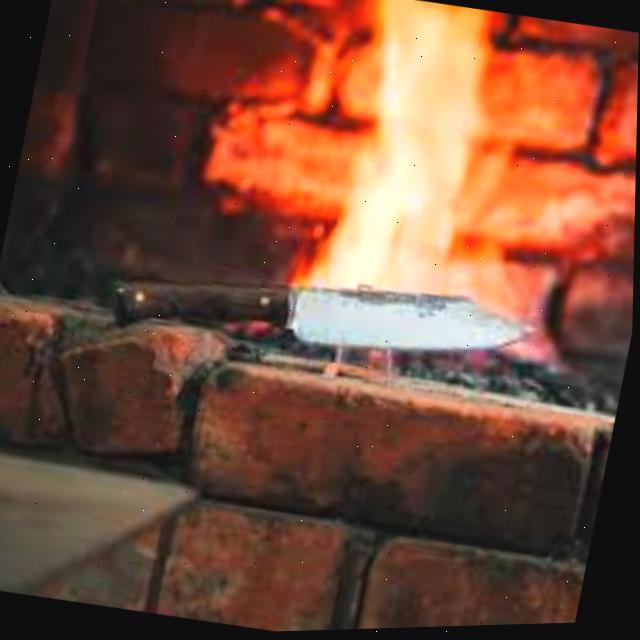Knife: (105, 233, 540, 394)
